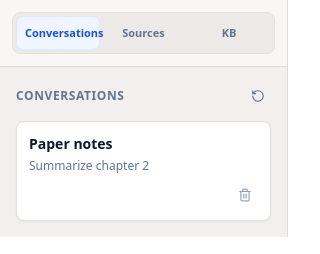
Test: WorkbenchContextPanel › deletes conversations and removes the row after success
Expected: the text "Paper notes" is shown, 29,134 -> 113,153
Click the button named "Delete Paper notes".
click(245, 195)  # box 232,182 -> 258,208
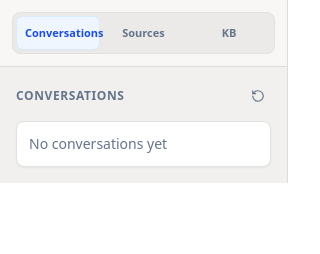
Expected: the button "Paper notes" is gone
